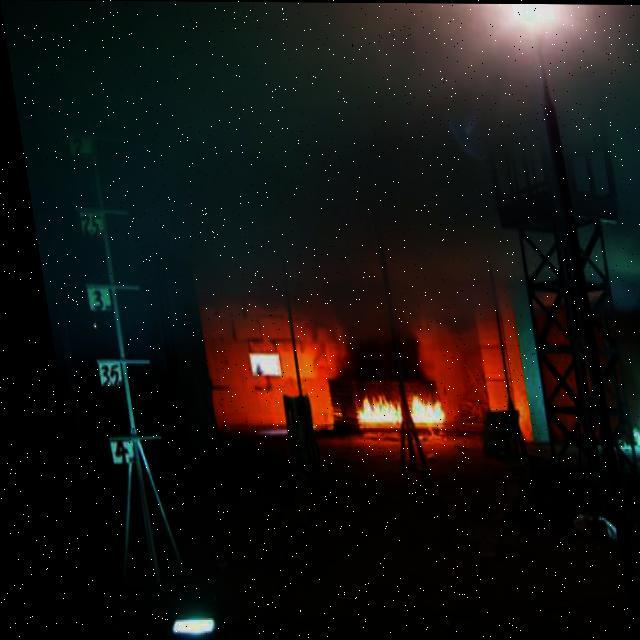Fire: (328, 370, 434, 436)
